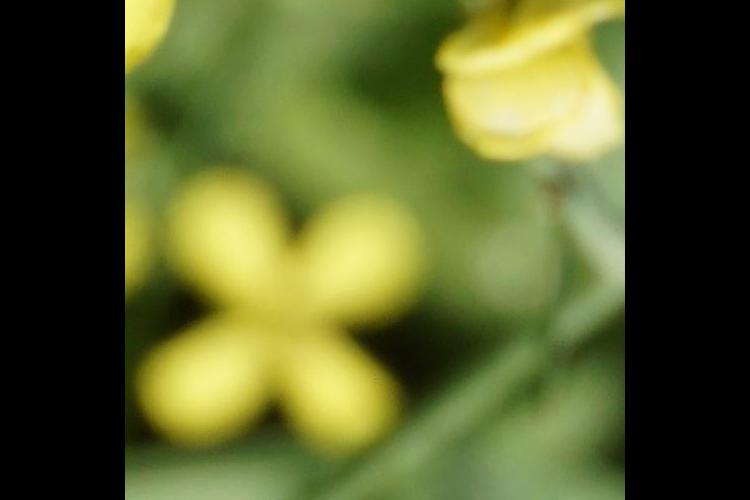yellow: (157, 167, 429, 477), (423, 1, 619, 171)
